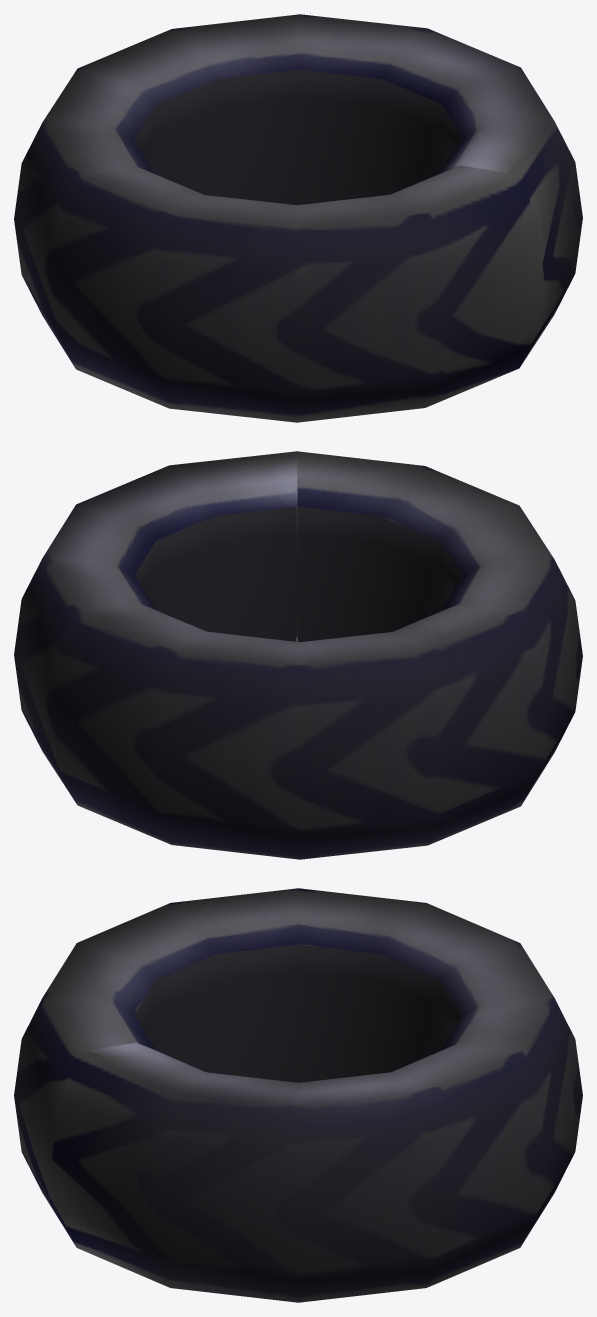
File: TrashWheel.fbx
3 views of the same model, one above another, from view 1: azimuth 30°, elevation 25°; view 2: azimuth 150°, elevation 25°; view 3: azimuth 270°, elevation 25° (orthographic).
Parts seen in each view (by area): view 1: TrashWheel; view 2: TrashWheel; view 3: TrashWheel.
Boxes of the visible parts, left/top/right/bottom form: TrashWheel: left=14, top=14, right=582, bottom=422; TrashWheel: left=14, top=451, right=582, bottom=859; TrashWheel: left=14, top=888, right=582, bottom=1302.
Bounding box in the file's own units: 1.75 × 0.6543 × 1.73.
